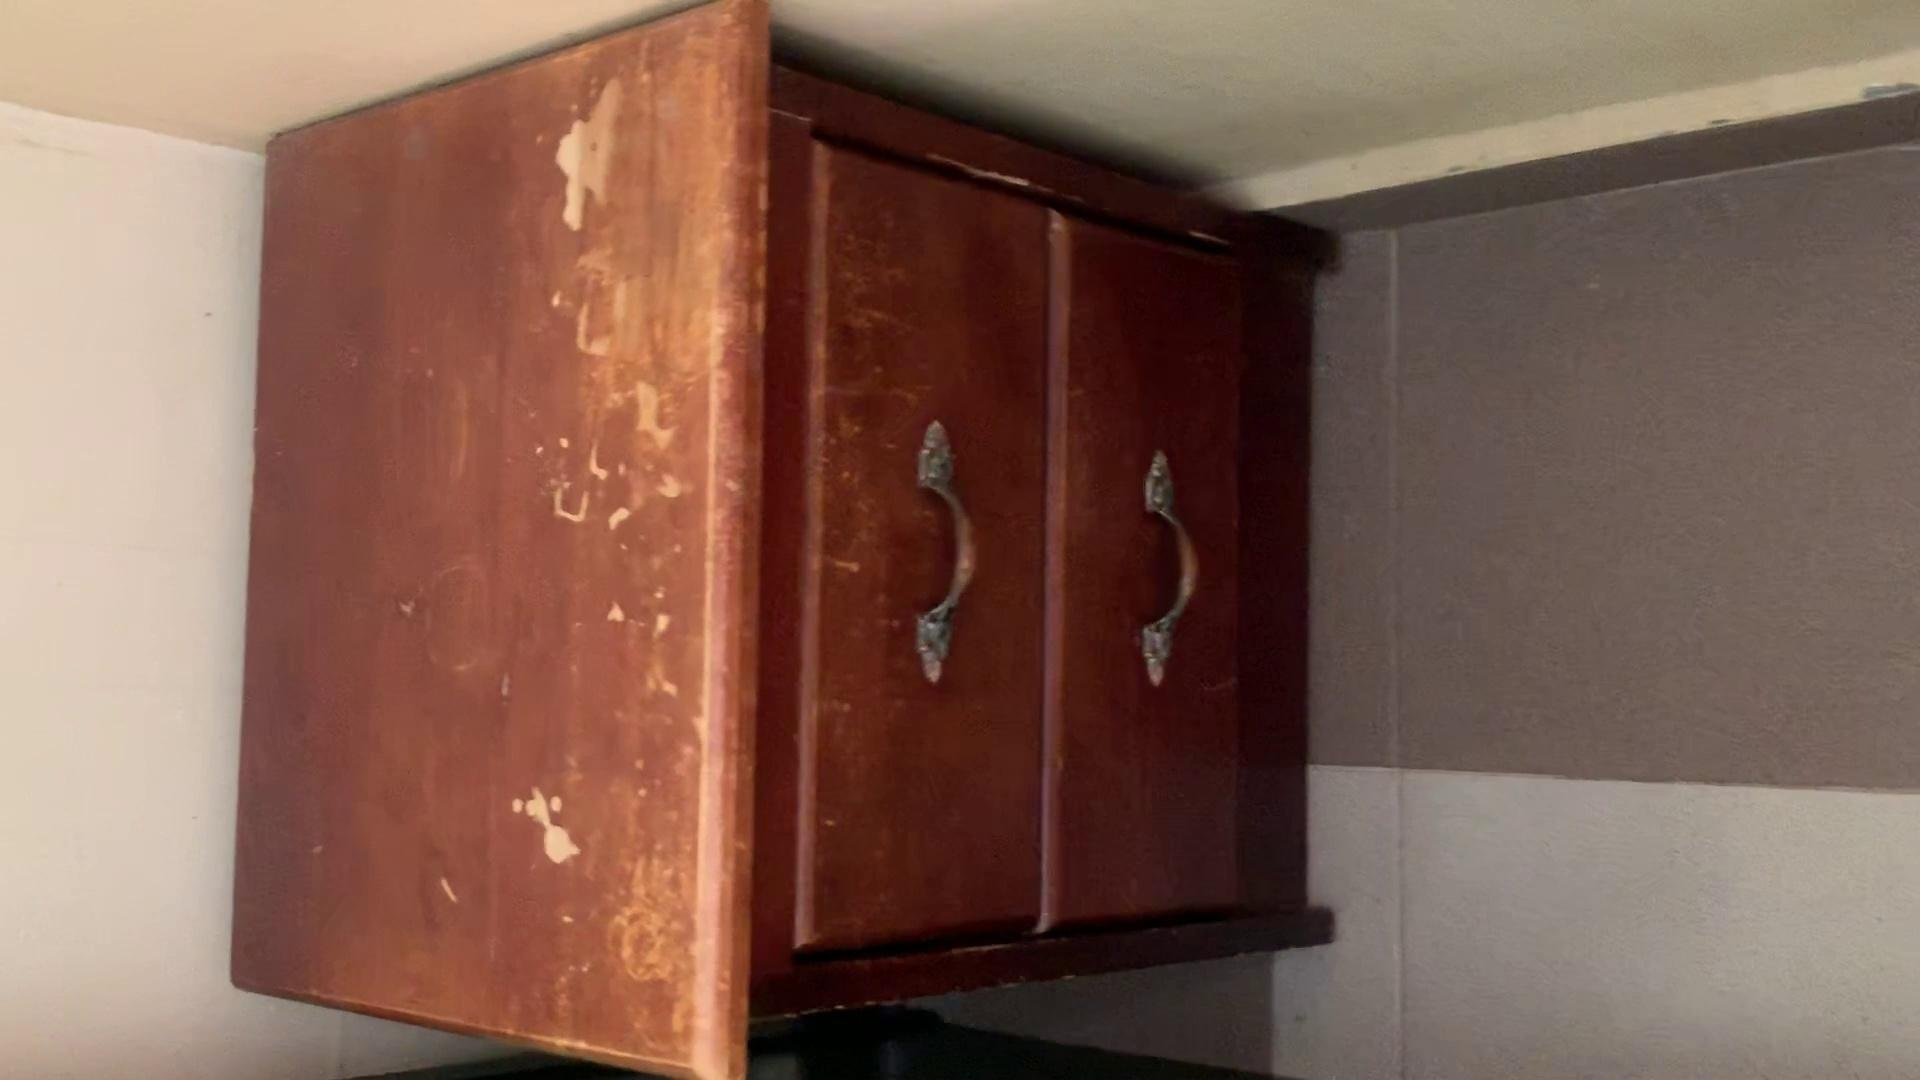cabinet_door: (804, 171, 1040, 943), (1042, 231, 1244, 918)
handle: (901, 407, 988, 695), (1129, 439, 1205, 702)
